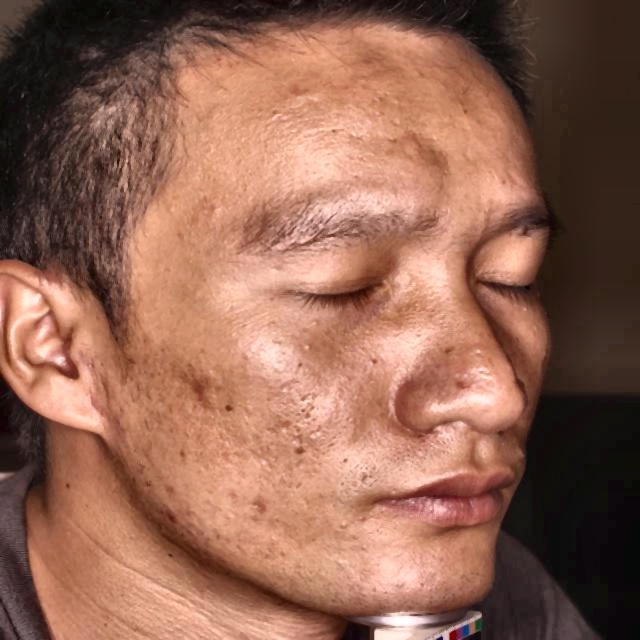comedone: (154, 501, 189, 524), (189, 374, 214, 398)
